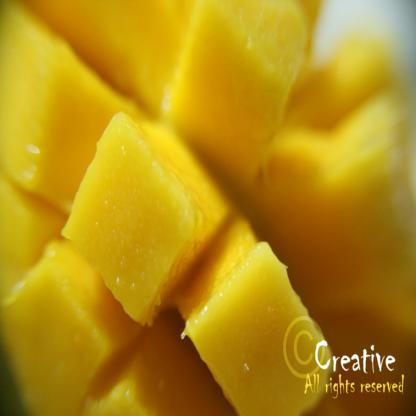Mango: (0, 0, 416, 415), (62, 110, 232, 323)
